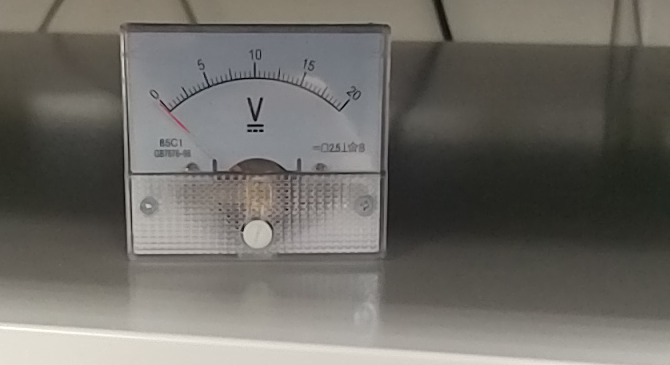Volt_Meter: (121, 25, 389, 182)
